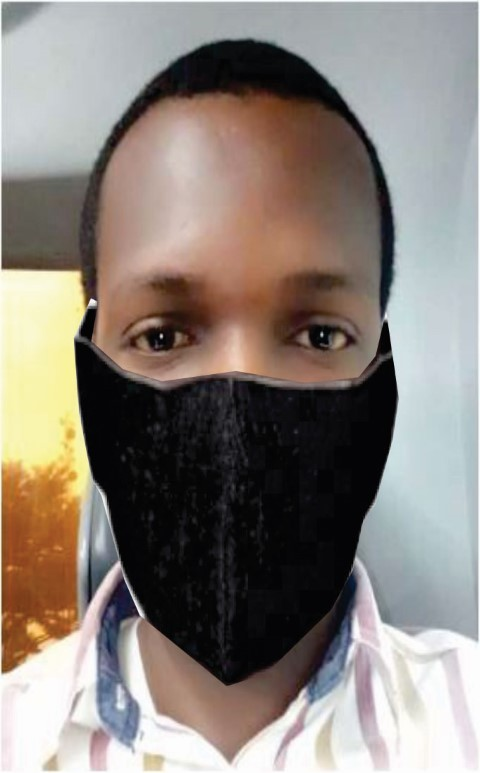with_facemask: (79, 376, 382, 653)
